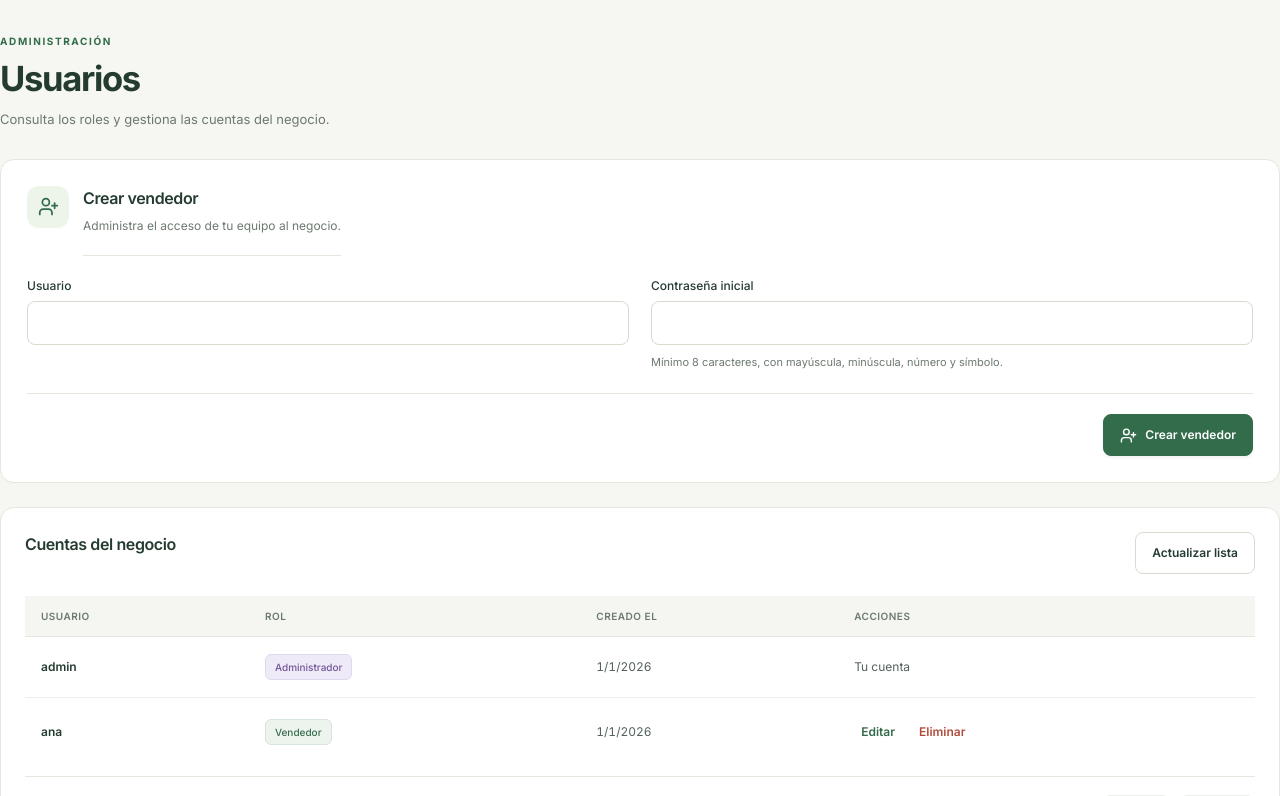
edita un vendedor conservando la contraseña cuando el campo queda vacío
Click the button "Editar" at (878, 732), box [854,715,902,749]
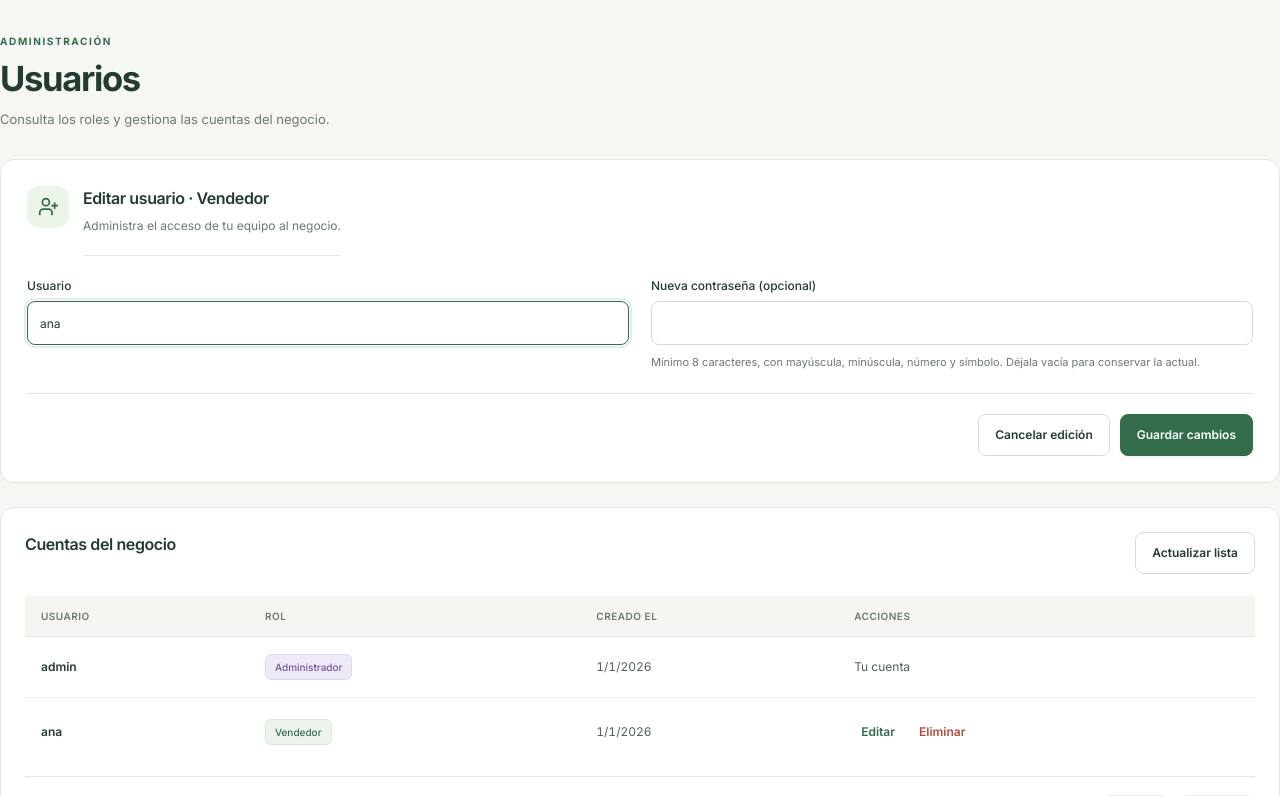
Replace the text in the field labelled "Usuario" with "ana_nueva" at (328, 323), box [27,301,629,345]
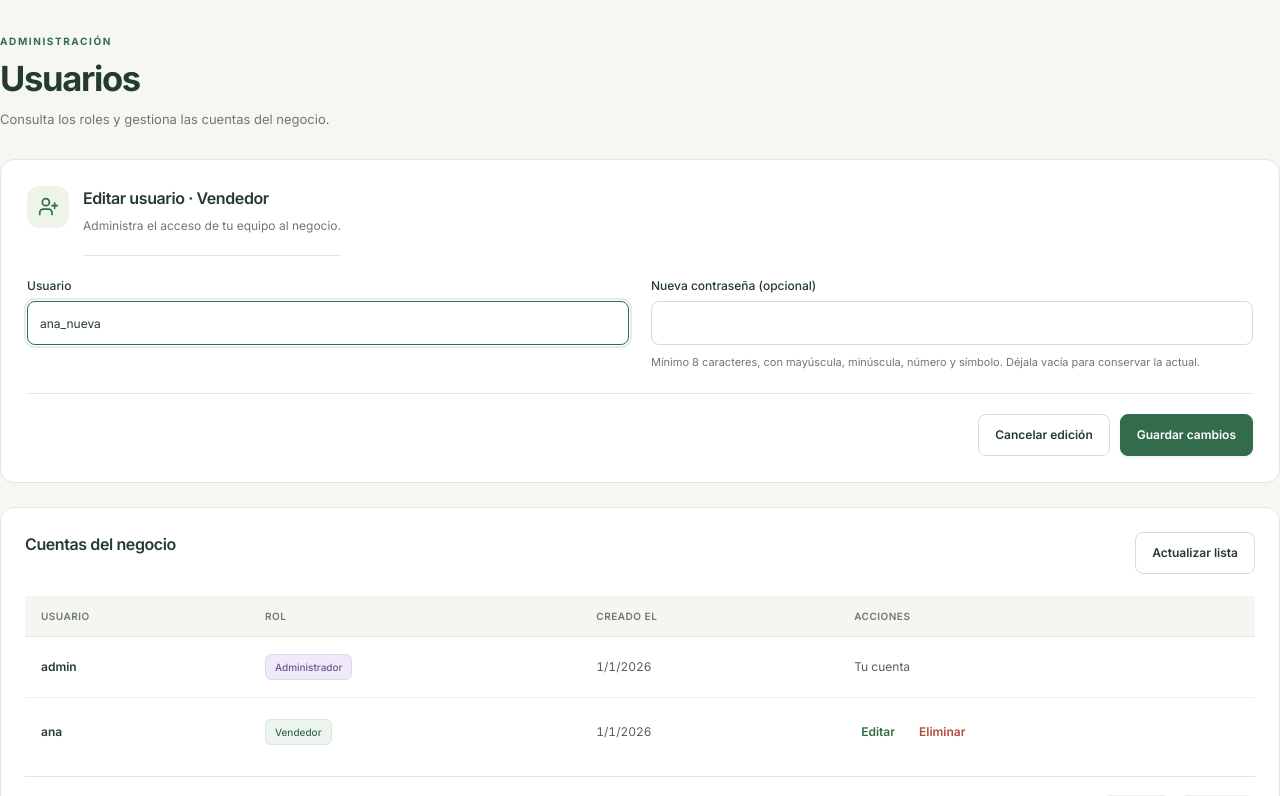
Click the button "Guardar cambios" at (1186, 435), box [1120,414,1253,456]
(page scrolled)
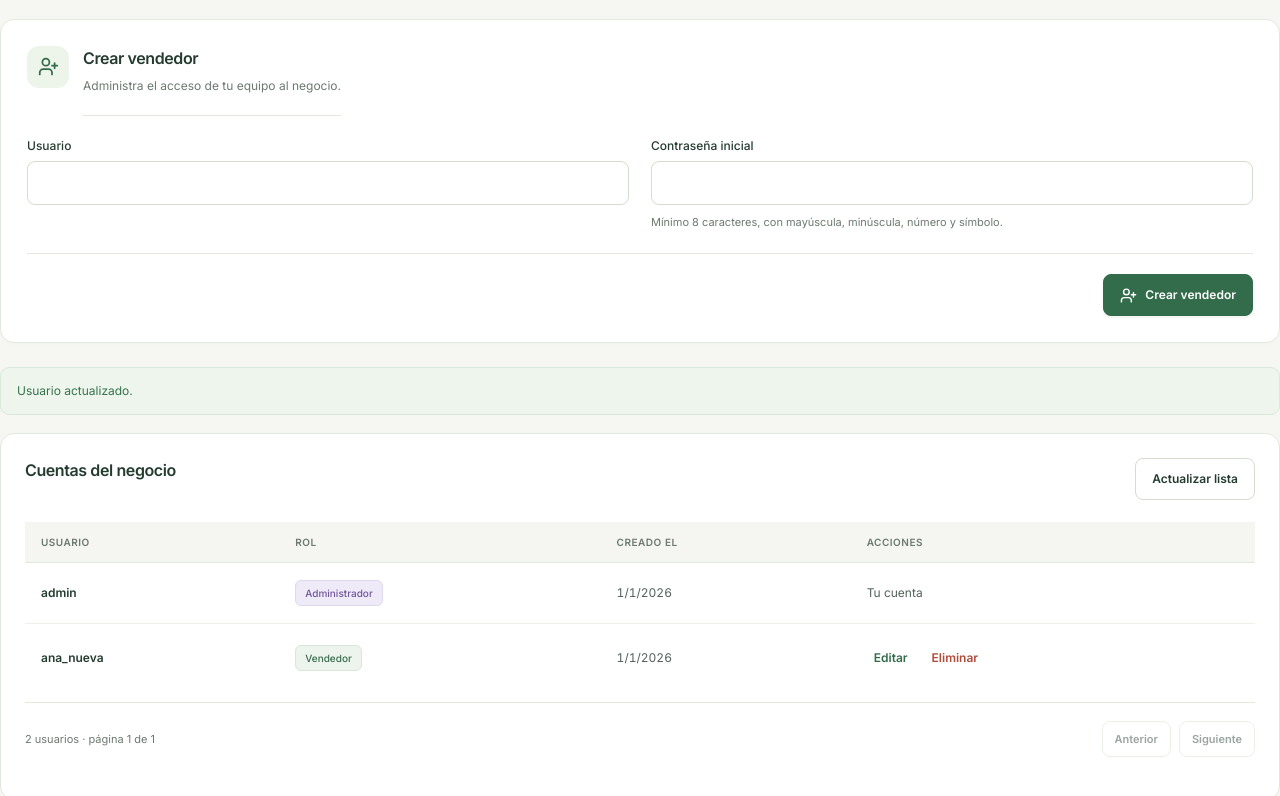
Expected: the text "ana_nueva" is shown, [41,650,104,665]
